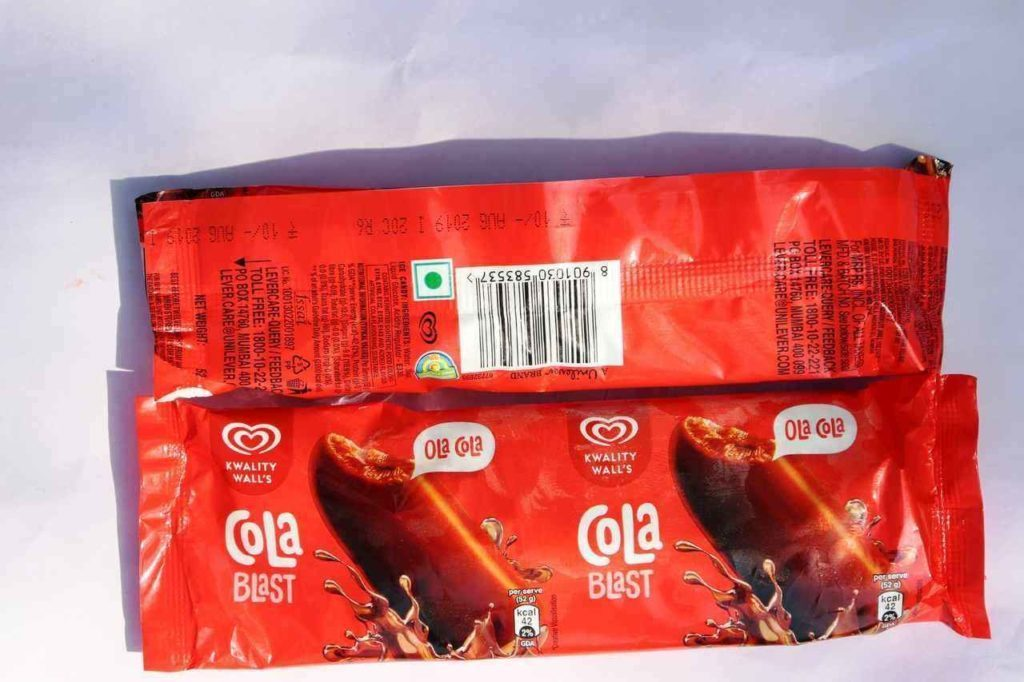Kwality_Walls: (577, 414, 654, 492), (214, 424, 287, 480)
